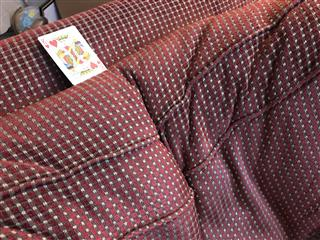KingOfHearts: (37, 24, 106, 85)
